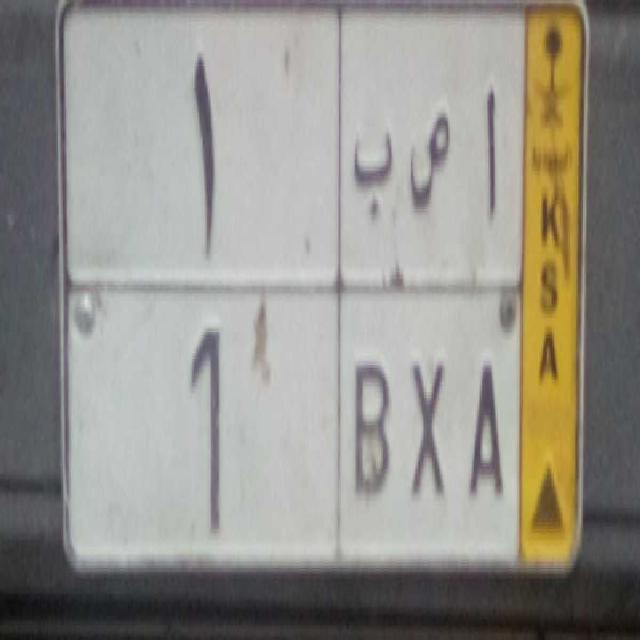license_plate: (63, 273, 524, 574)
